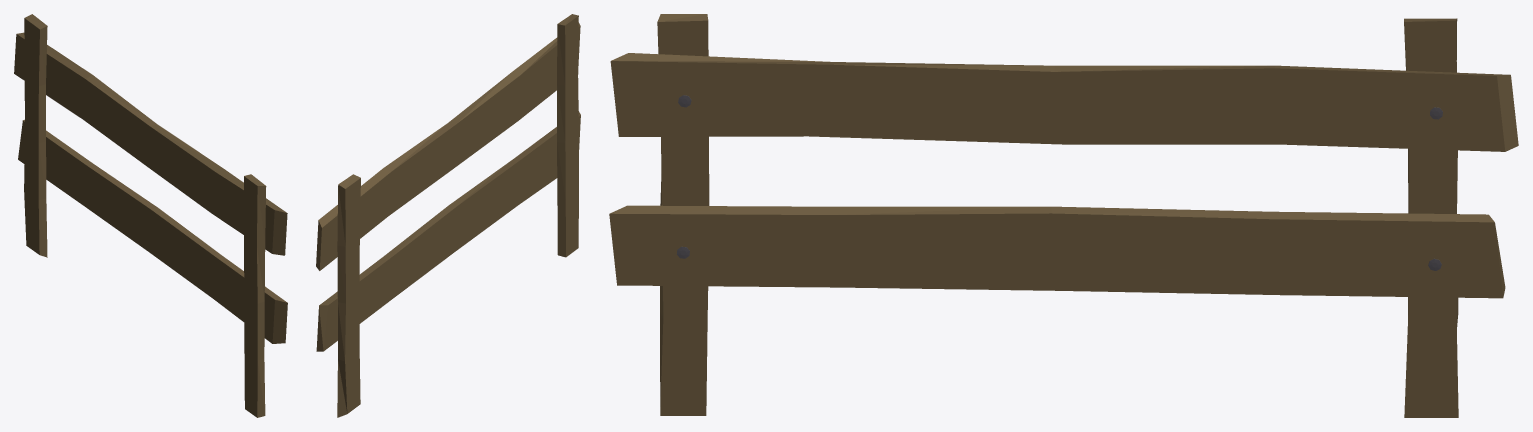
Rendered from Zaun kurz.fbx.
3 views of the same model, side by side, from view 1: azimuth 30°, elevation 25°; view 2: azimuth 150°, elevation 25°; view 3: azimuth 270°, elevation 25° (orthographic). The views are drawn at different scales.
Visible parts, largest first — view 1: Zylinder_4; view 2: Zylinder_4; view 3: Zylinder_4.
Boxes of the visible parts, x1,y1,x2,y2 form: Zylinder_4: (14, 14, 287, 417); Zylinder_4: (316, 14, 580, 417); Zylinder_4: (609, 14, 1518, 417).
Size of the model in its own units: 13.53 by 175 by 363.
